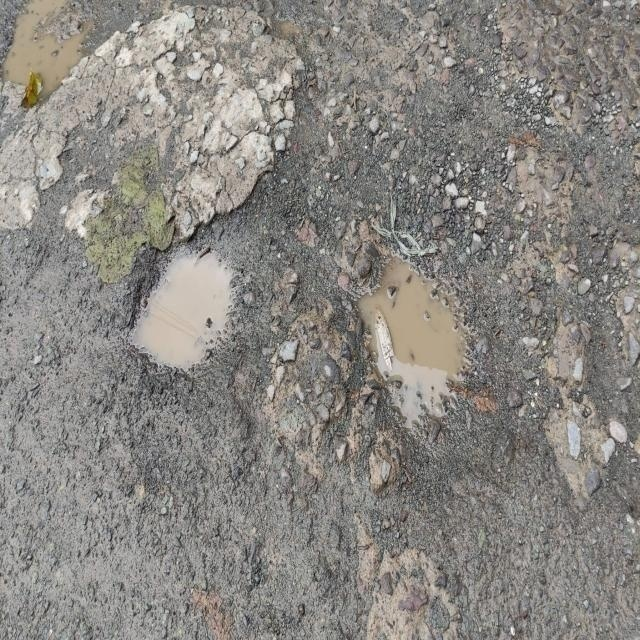pothole: (333, 223, 496, 435), (106, 206, 267, 392)
